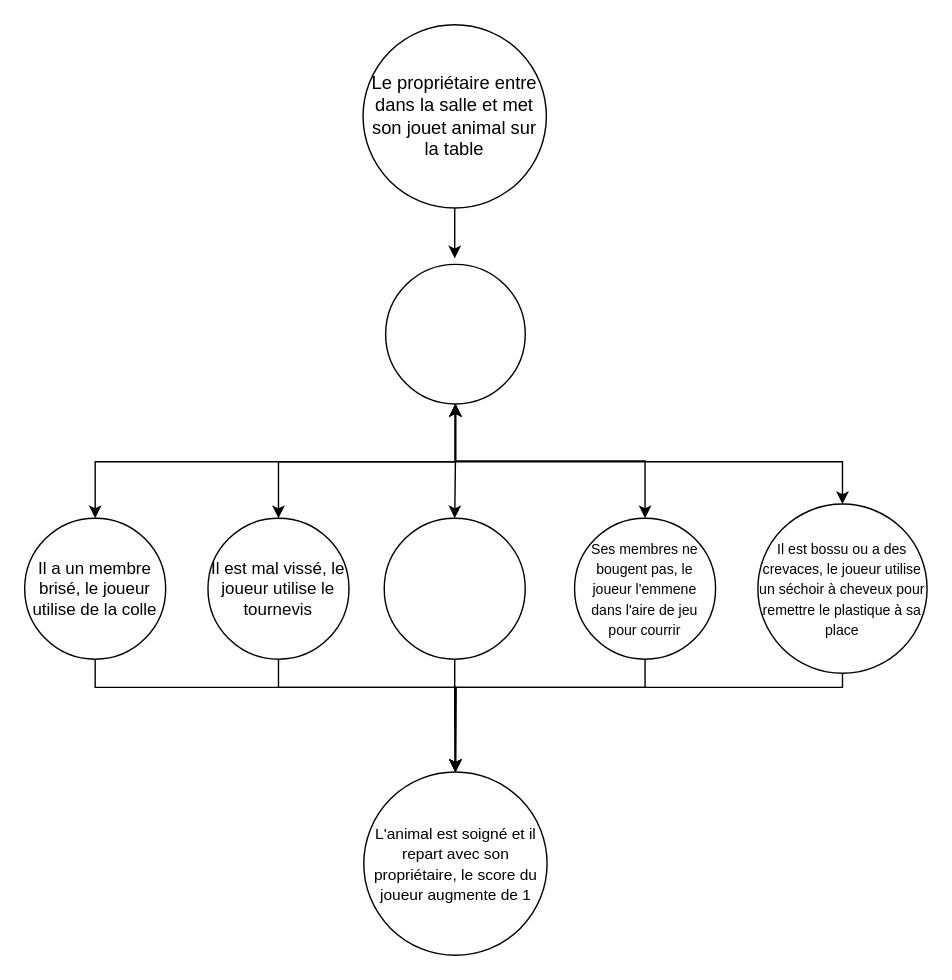
This 952x980 diagram has some shape labels left out. The box of each missing label's shape, as (x1, y1, x2, y2) in pixels:
Il est sale, le joueur lui donne un bain: (383, 517, 525, 659)
Le joueur observe l'animal en plastique: (384, 263, 525, 404)
